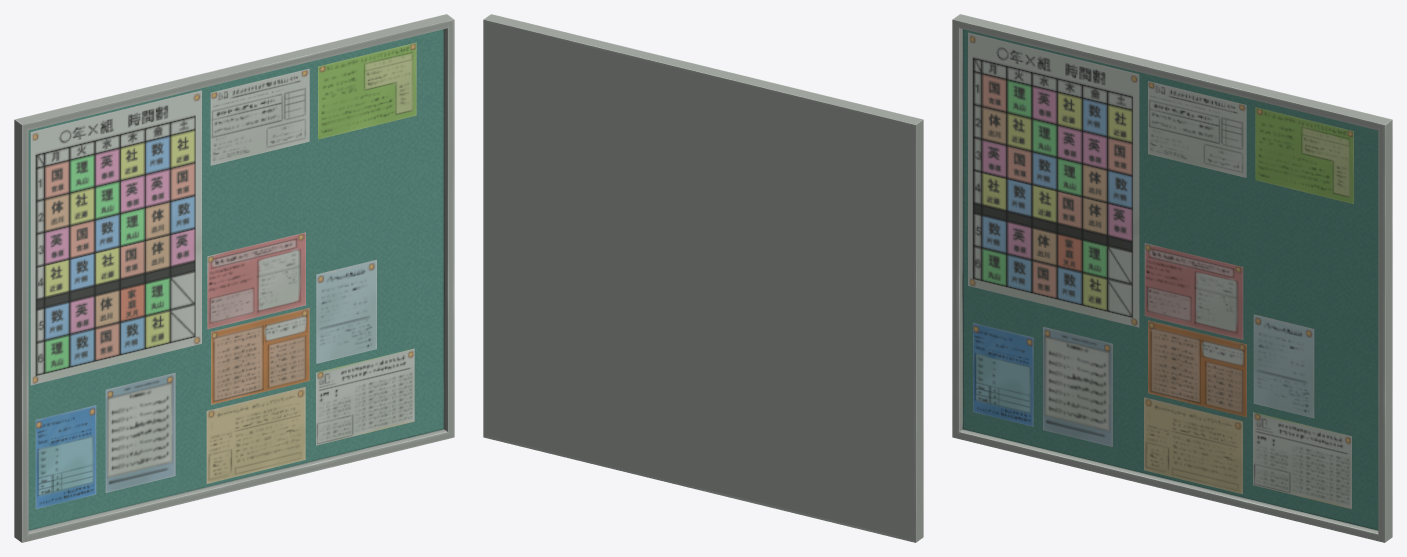
Rendered from Board_01_01.fbx.
The picture shows the model from 3 angles, left to right: view 1: azimuth 30°, elevation 25°; view 2: azimuth 150°, elevation 25°; view 3: azimuth 330°, elevation 25°; orthographic projection.
Parts seen in each view (by area): view 1: board01_01, paperB2_01, paperA4_01, paperA4_02, paperA4_06, paperA4_03, paperA4_04, paperA4_05, paperA4_07, paperB5_02, paperB5_01; view 2: board01_01; view 3: board01_01, paperB2_01, paperA4_04, paperA4_03, paperA4_07, paperA4_05, paperA4_06, paperA4_02, paperA4_01, paperB5_01, paperB5_02.
Boxes of the visible parts, x1,y1,x2,y2 form: board01_01: [14, 14, 454, 542]; paperB2_01: [30, 90, 201, 385]; paperA4_01: [105, 372, 175, 492]; paperA4_02: [210, 68, 309, 165]; paperA4_06: [206, 387, 305, 483]; paperA4_03: [318, 42, 416, 139]; paperA4_04: [207, 232, 305, 329]; paperA4_05: [211, 308, 309, 404]; paperA4_07: [316, 348, 414, 445]; paperB5_02: [35, 405, 96, 508]; paperB5_01: [316, 259, 376, 363]; board01_01: [483, 14, 923, 542]; board01_01: [952, 14, 1392, 542]; paperB2_01: [968, 32, 1139, 327]; paperA4_04: [1144, 243, 1243, 339]; paperA4_03: [1255, 107, 1353, 204]; paperA4_07: [1253, 412, 1351, 509]; paperA4_05: [1148, 320, 1246, 417]; paperA4_06: [1144, 397, 1242, 494]; paperA4_02: [1148, 81, 1246, 177]; paperA4_01: [1043, 326, 1112, 446]; paperB5_01: [1253, 314, 1314, 418]; paperB5_02: [973, 322, 1033, 426].
Size of the model in its own units: 130 by 120 by 4.
